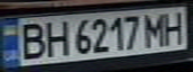1: (106, 14, 127, 52)
2: (90, 16, 112, 54)
6: (72, 16, 93, 55)
7: (121, 12, 145, 50)
B: (12, 20, 51, 61)
H: (39, 18, 72, 57), (160, 9, 190, 45)
M: (142, 10, 172, 47)
